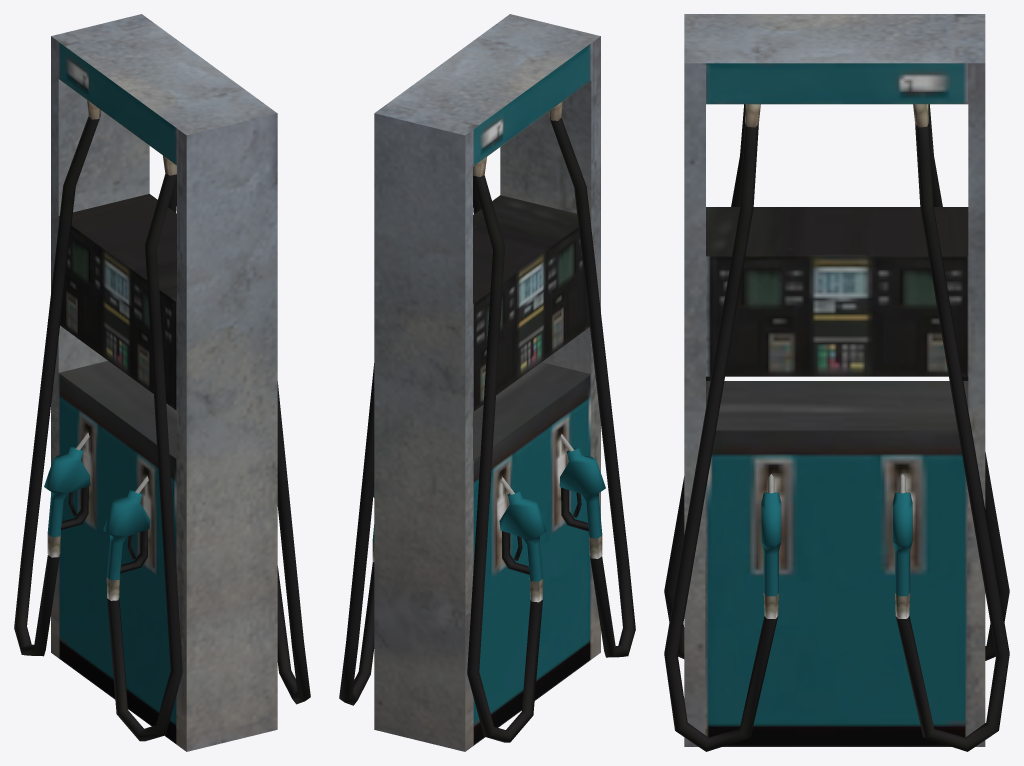
The model's file is prop-pump.glb.
3 views of the same model, side by side, from view 1: azimuth 30°, elevation 25°; view 2: azimuth 150°, elevation 25°; view 3: azimuth 270°, elevation 25° (orthographic). The views are drawn at different scales.
Parts seen in each view (by area): view 1: Fuel_pump_01; view 2: Fuel_pump_01; view 3: Fuel_pump_01.
Boxes of the visible parts, x1,y1,x2,y2 form: Fuel_pump_01: [14, 14, 310, 751]; Fuel_pump_01: [339, 14, 635, 751]; Fuel_pump_01: [664, 14, 1009, 751].
Bounding box in the file's own units: 0.6048 × 2.05 × 0.9394.
1 material, 1 textured.
